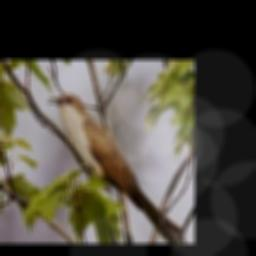Cuckoo: (46, 93, 187, 244)
